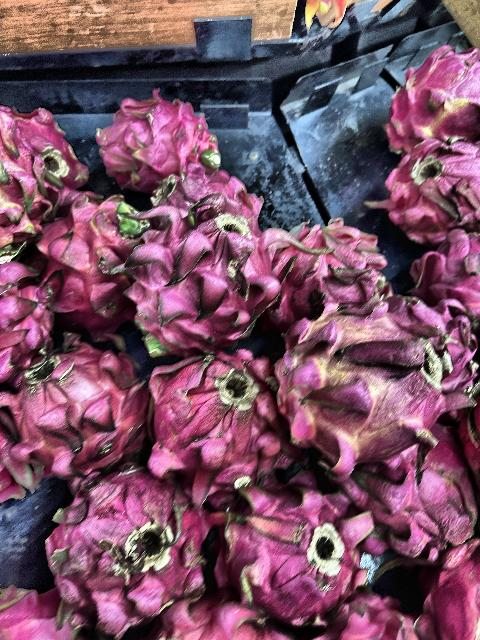buah-naga-belum-matang: (280, 299, 466, 466), (380, 36, 480, 140)
buah-naga-matang: (106, 206, 300, 348), (215, 460, 379, 618), (41, 465, 209, 619), (137, 344, 299, 486), (6, 347, 146, 473), (340, 425, 476, 549), (38, 194, 138, 330), (91, 82, 227, 176), (280, 220, 386, 310), (380, 143, 480, 230), (7, 100, 99, 186), (0, 248, 54, 368), (0, 116, 44, 260), (420, 538, 480, 640), (144, 168, 272, 212), (420, 223, 480, 307)
